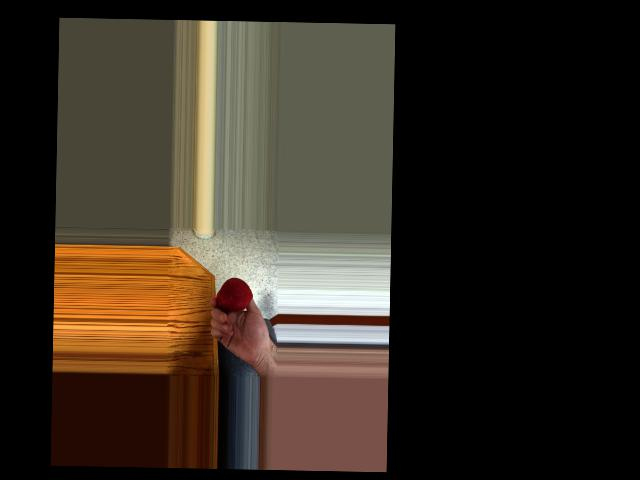apple: (218, 277, 253, 311)
